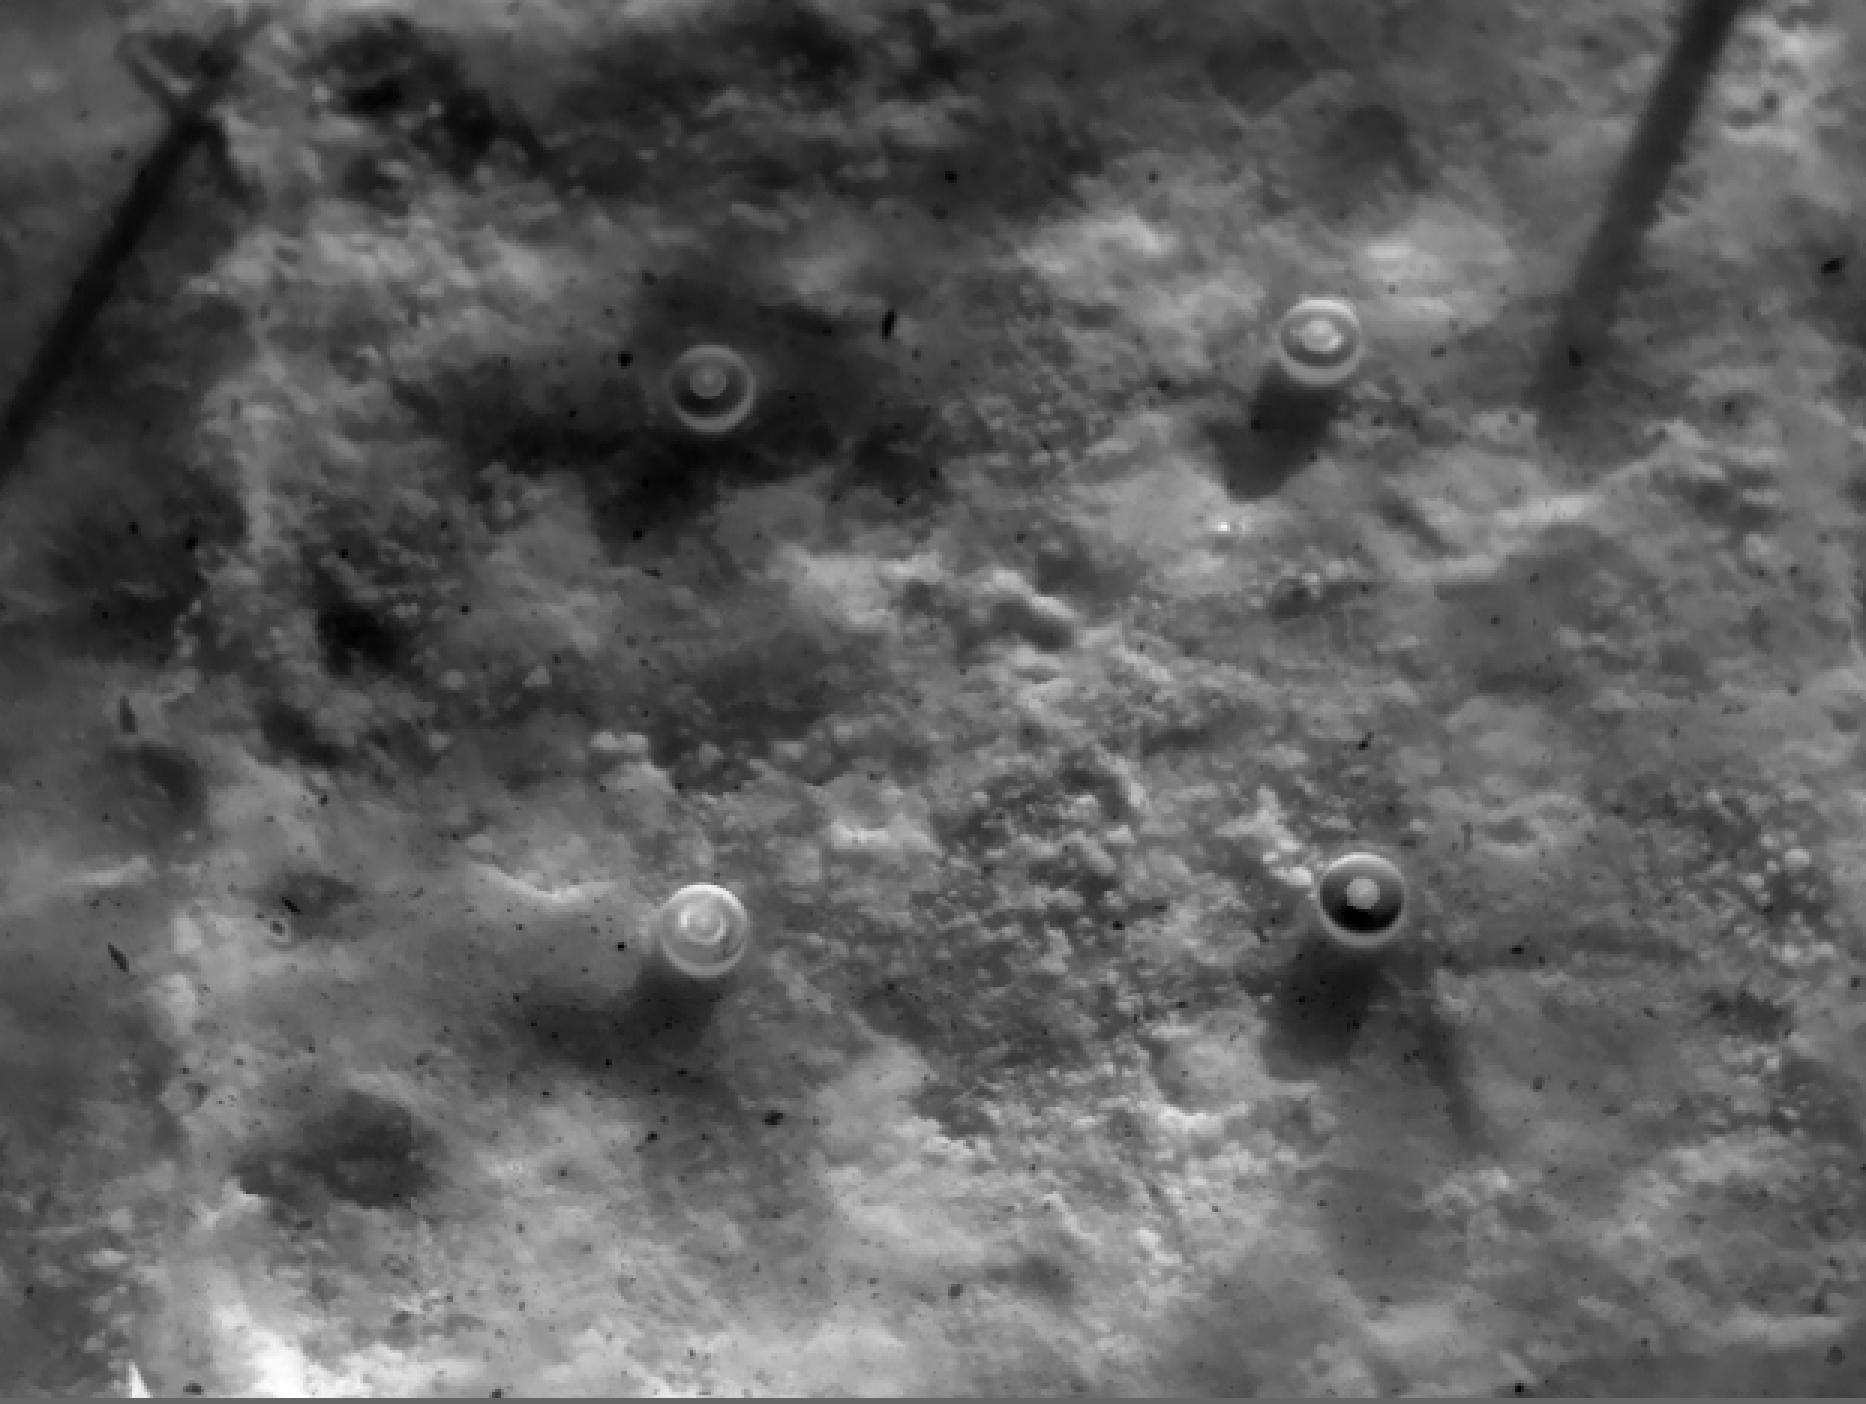mines-gjV8: (1311, 848, 1432, 965), (652, 866, 752, 984), (668, 332, 749, 439), (1285, 302, 1376, 379)
